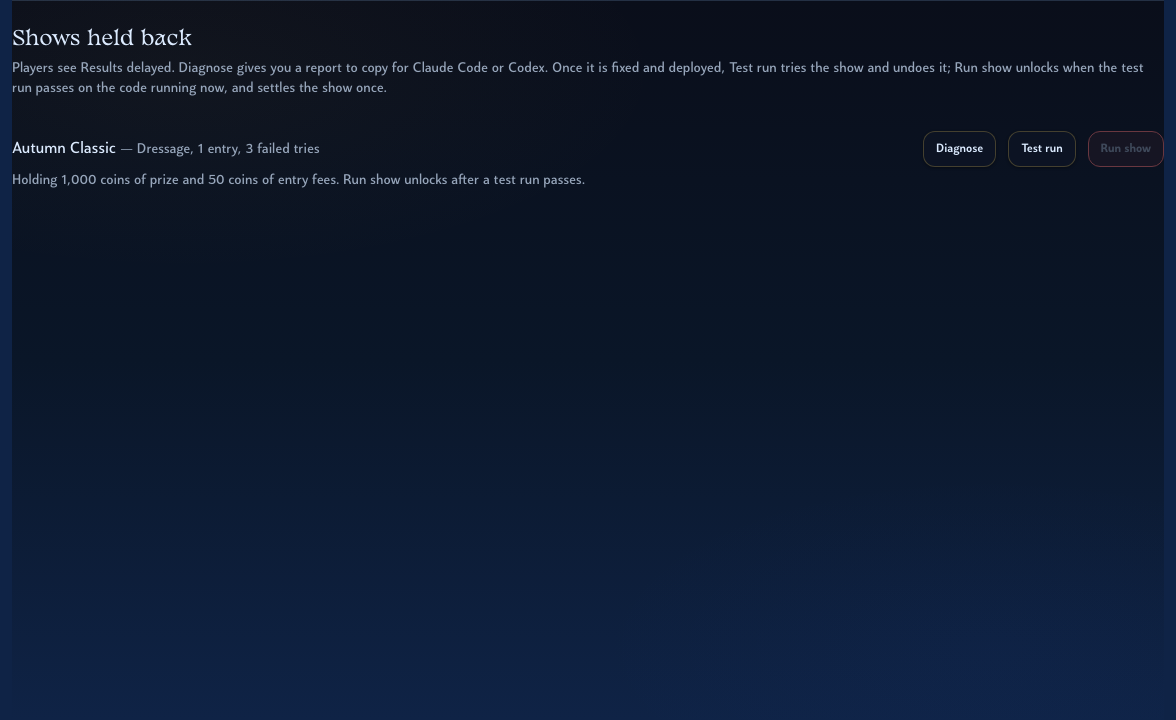
Test case: StaffQuarantinedShows › Run show is locked until a test run passes; the test run shows what it would pay
Expected: the button with aria-label "Run Autumn Classic" is disabled, [1088, 131, 1164, 167]
Expected: the text "Run show unlocks after a test run passes" is shown, [339, 173, 585, 188]
Step 1. Click the button with aria-label "Test run Autumn Classic" → (1042, 149), box [1008, 131, 1076, 167]
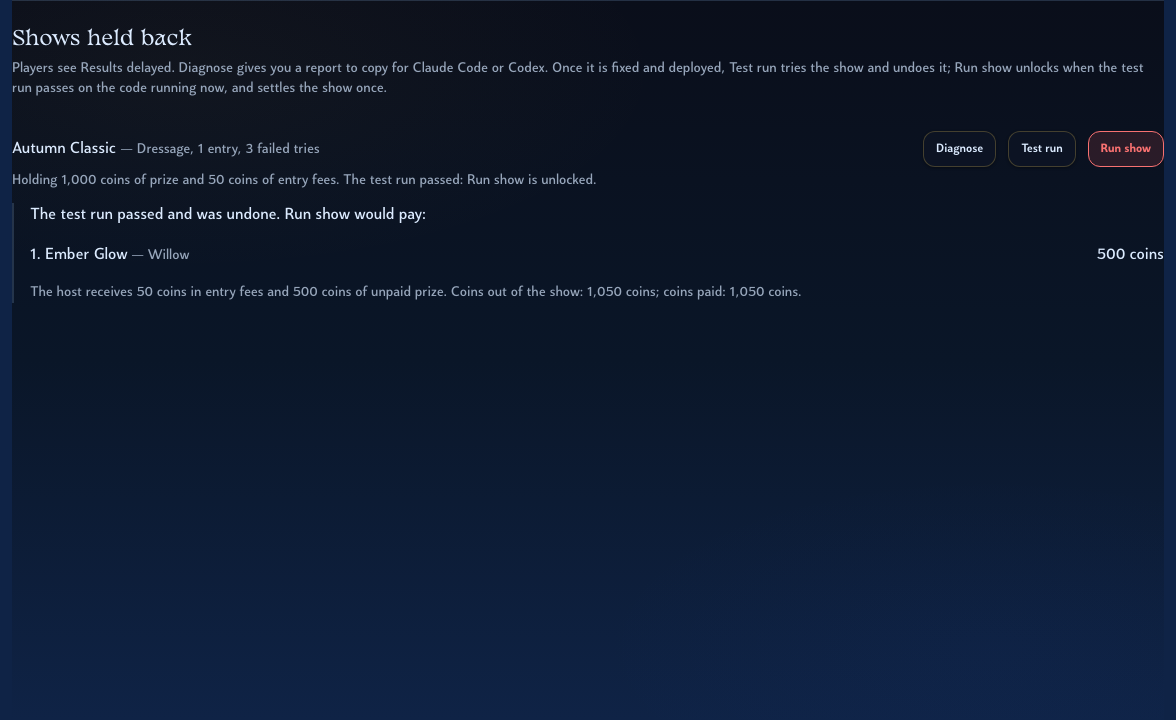
Expected: the text "The test run passed and was undone. Run show would pay:" is shown, [30, 207, 426, 223]
Expected: the text "1. Ember Glow — Willow" is shown, [30, 243, 189, 267]
Expected: the text "500 coins" is shown, [1097, 243, 1164, 267]
Step 2. Click the button with aria-label "Run Autumn Classic" → (1126, 149), box [1088, 131, 1164, 167]
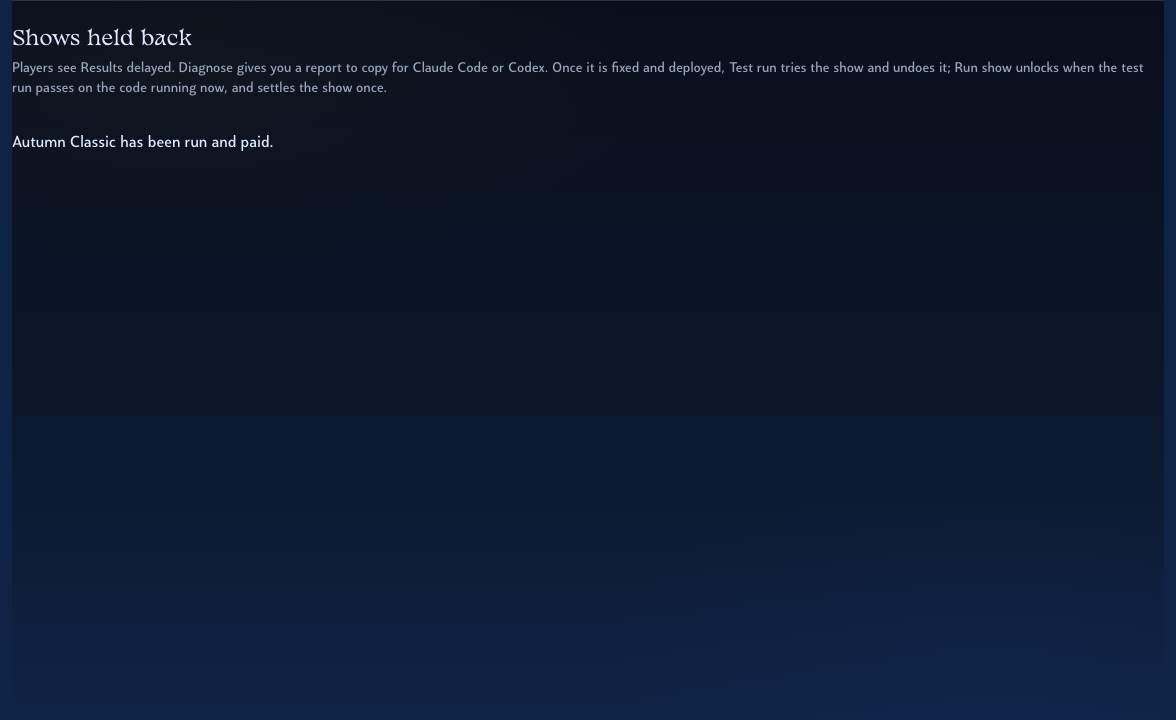
Expected: the text "Autumn Classic has been run and paid." is shown, [12, 135, 274, 151]
